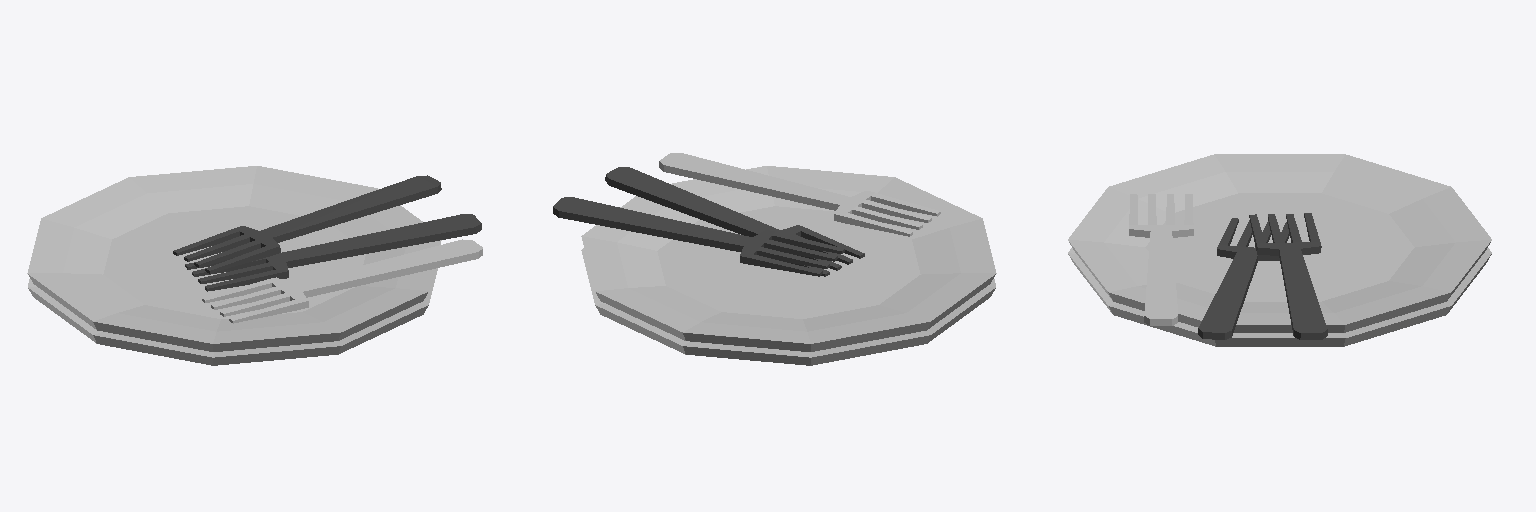
Rendered from platesandforks.obj.
The picture shows the model from 3 angles: view 1: azimuth 30°, elevation 25°; view 2: azimuth 150°, elevation 25°; view 3: azimuth 270°, elevation 25°; orthographic projection.
Visible parts, largest first — view 1: Cylinder.001_Cylinder.002, Cylinder; view 2: Cylinder.001_Cylinder.002, Cylinder; view 3: Cylinder.001_Cylinder.002, Cylinder.
Boxes of the visible parts, x1=… form: Cylinder.001_Cylinder.002: x1=27, y1=166, x2=482, y2=365; Cylinder: x1=173, y1=175, x2=481, y2=291; Cylinder.001_Cylinder.002: x1=581, y1=153, x2=996, y2=365; Cylinder: x1=553, y1=167, x2=864, y2=276; Cylinder.001_Cylinder.002: x1=1068, y1=154, x2=1491, y2=346; Cylinder: x1=1198, y1=213, x2=1327, y2=339.
Bounding box in the file's own units: 0.3161 × 0.028 × 0.2969.